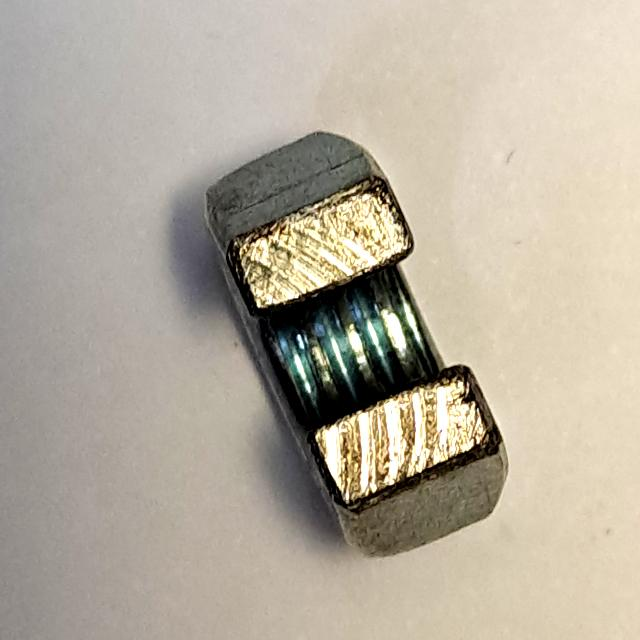Side-Fracture: (186, 111, 524, 579)
